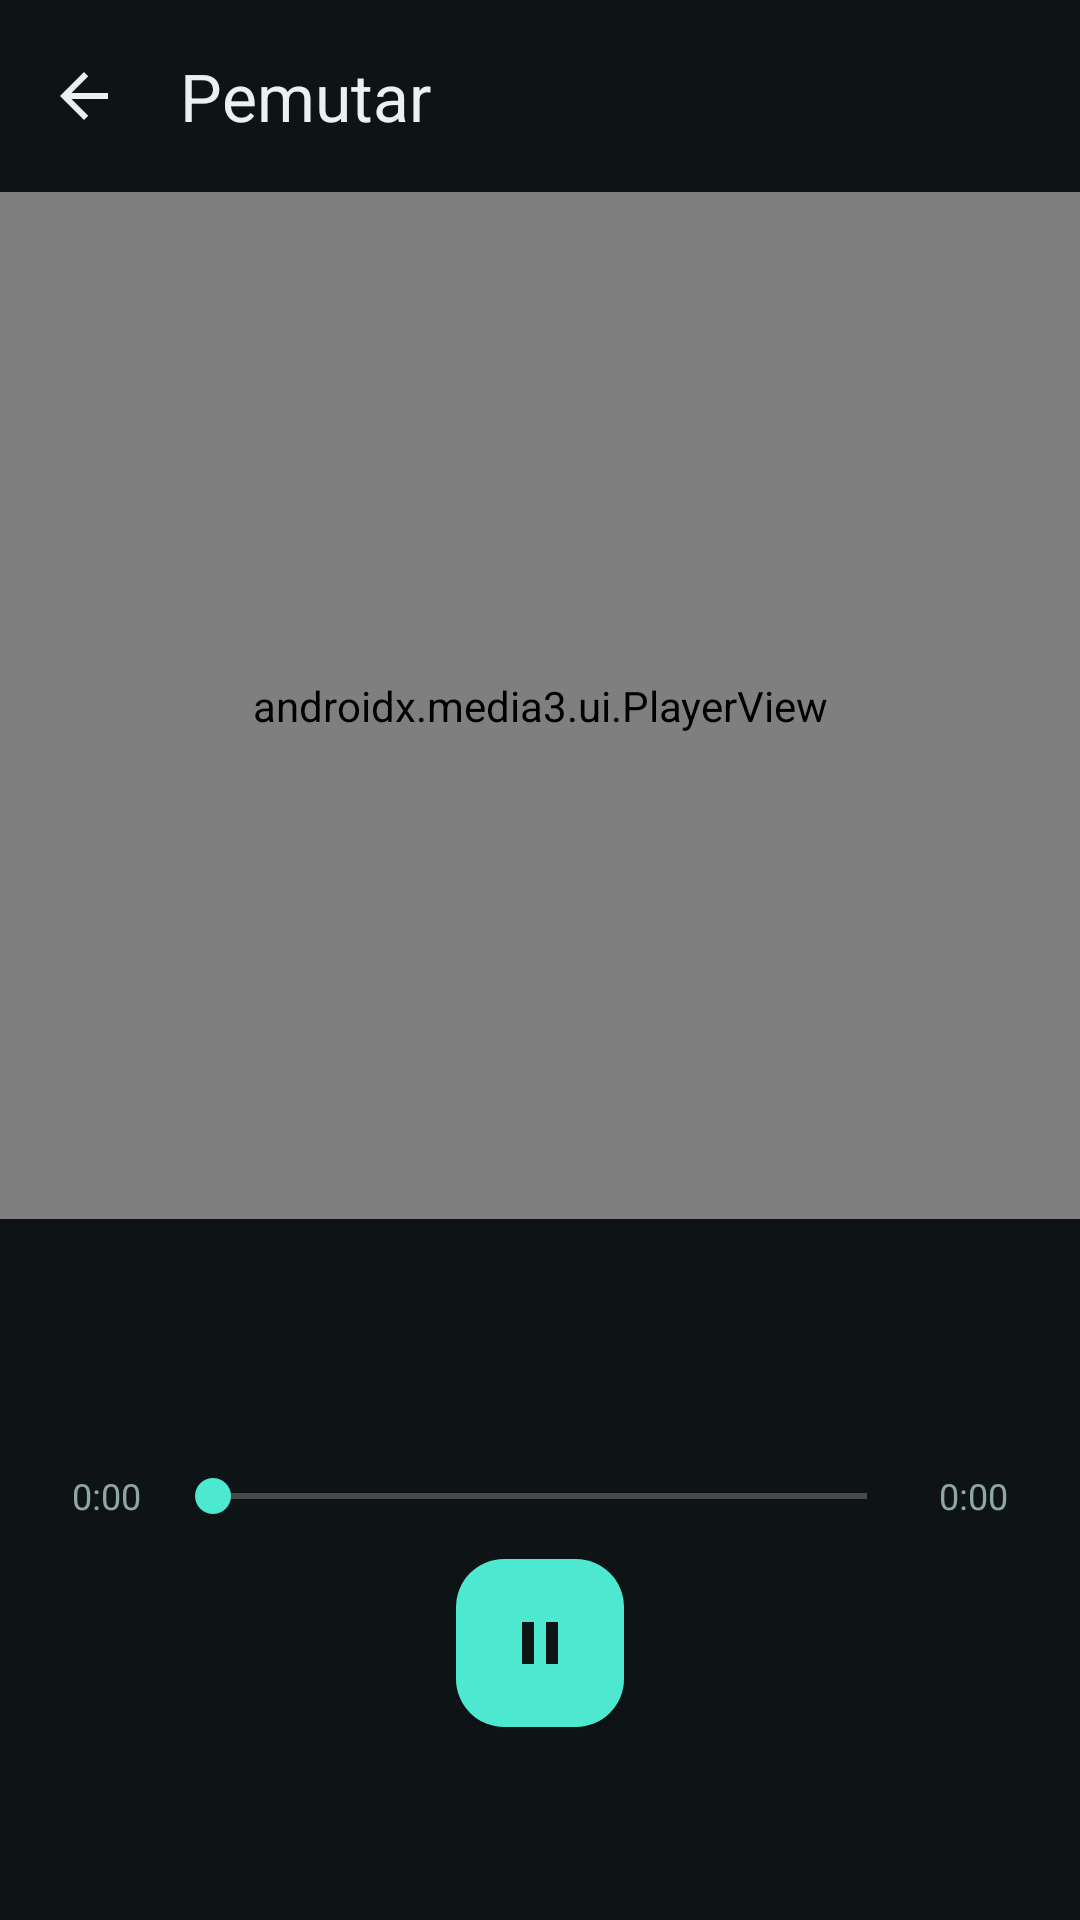

Screen size 1080w x 1920h. Icon name, then its center in pixels as point (x, y):
pause: point (540, 1643)
